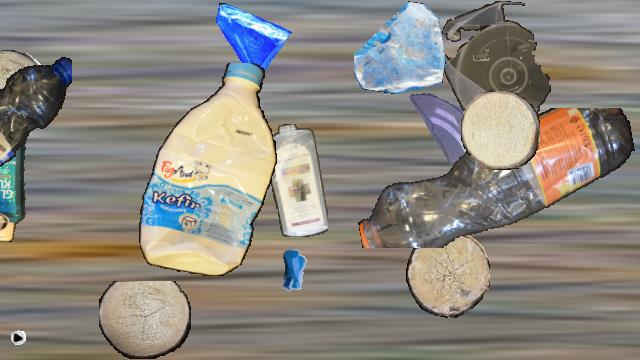glass: (354, 1, 446, 93), (405, 89, 489, 173), (210, 1, 292, 83)
metal: (264, 241, 326, 303), (0, 290, 33, 350)
plastic: (353, 108, 637, 248), (135, 63, 277, 275), (440, 1, 552, 133), (0, 50, 71, 190), (267, 124, 327, 236), (0, 99, 36, 241)
wood: (406, 232, 490, 318), (99, 281, 191, 359), (461, 91, 539, 169), (0, 50, 46, 88)
